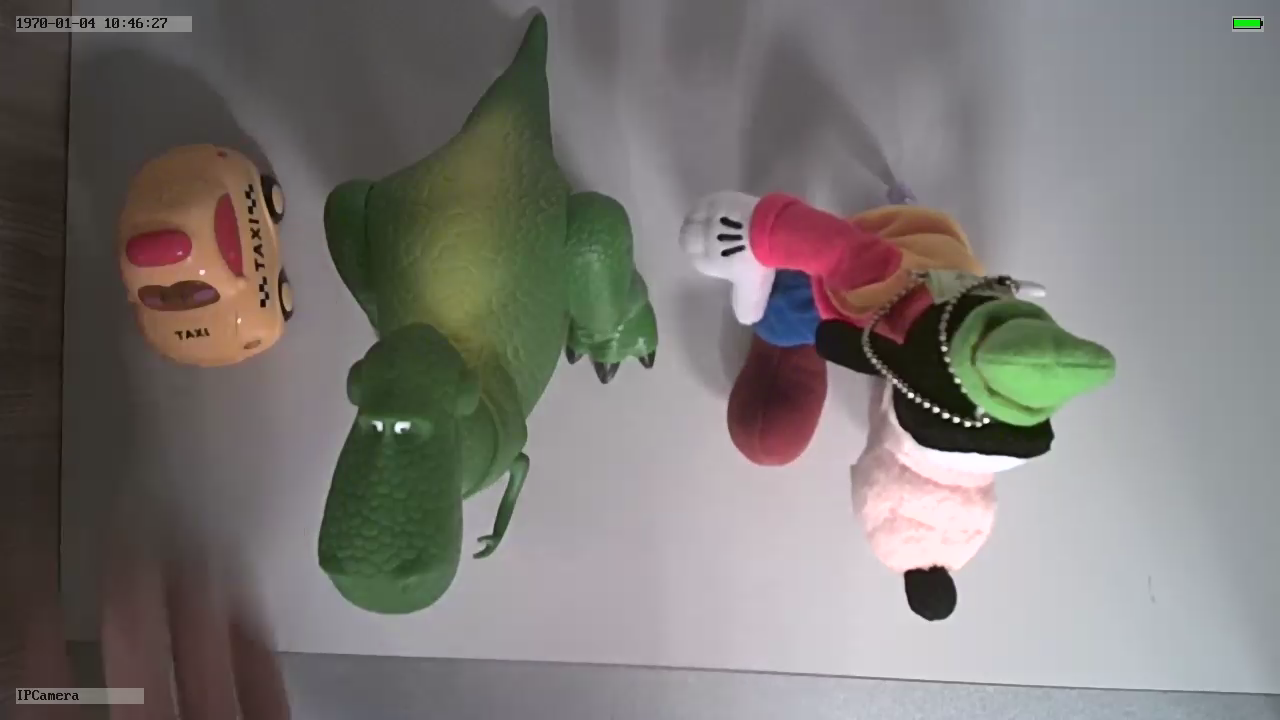goofy: (668, 174, 1124, 631)
